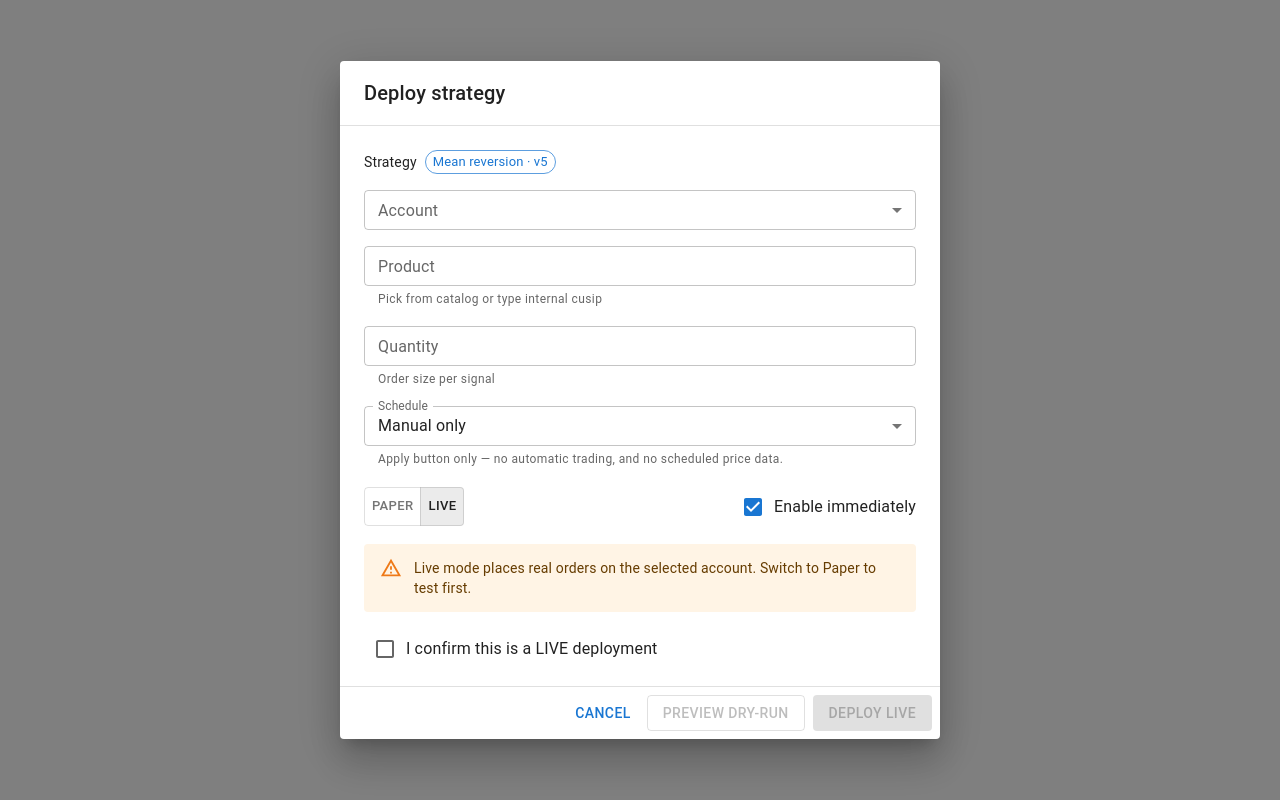
DeploymentDialog schedule control › offers the cadences from REFDATA
This screenshot has width=1280, height=800.
Click the dropdown named "Schedule". click: coordinates (422, 426)
box: 378,416 -> 466,435
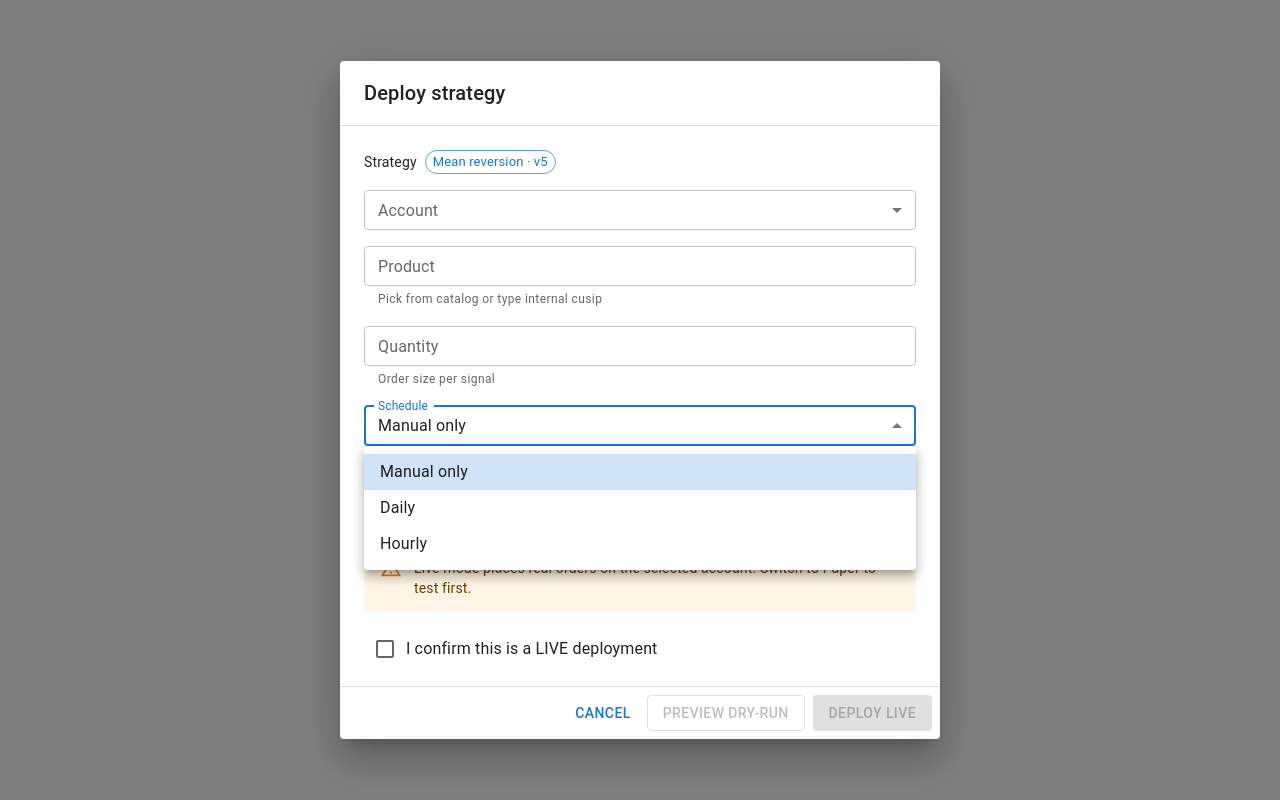
Now the option "Manual only" is shown, box 364,454 -> 916,490
Now the option "Daily" is shown, box 380,498 -> 415,517
Now the option "Hourly" is shown, box 380,534 -> 427,553
